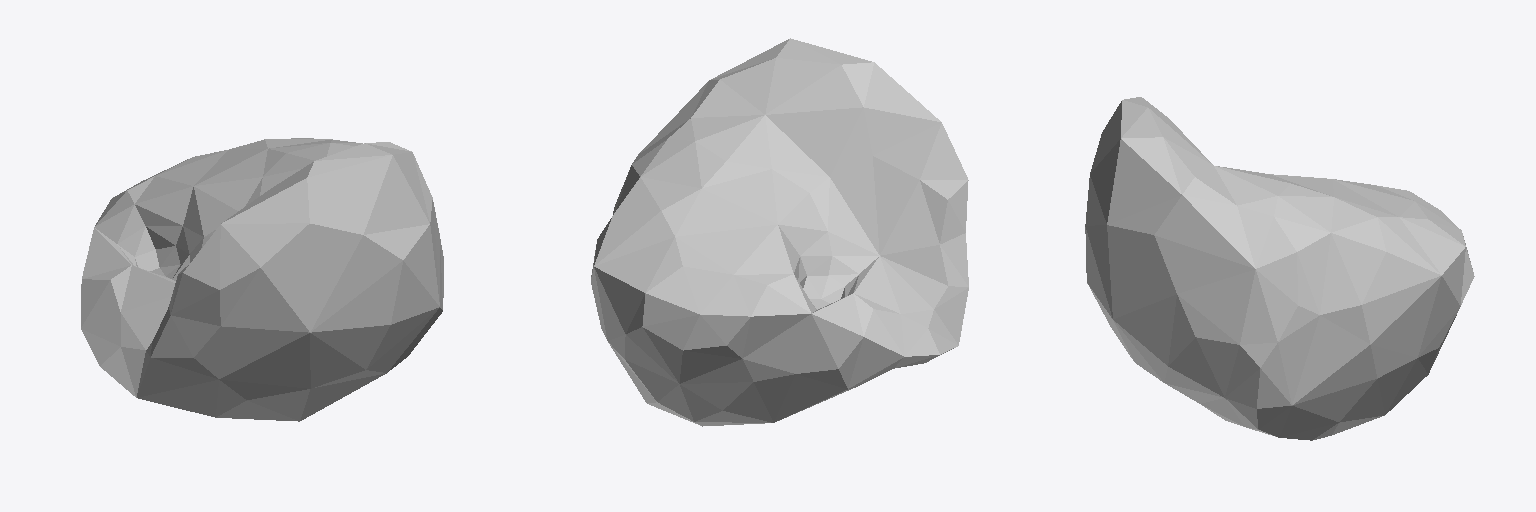
File: rock.obj
3 renders of one model, left to right at view 1: azimuth 30°, elevation 25°; view 2: azimuth 150°, elevation 25°; view 3: azimuth 270°, elevation 25°, orthographic.
Visible parts, largest first — view 1: Roock_Icosphere; view 2: Roock_Icosphere; view 3: Roock_Icosphere.
Boxes of the visible parts, box(x1,y1,x2,y2) form: Roock_Icosphere: box(81, 138, 443, 421); Roock_Icosphere: box(591, 38, 968, 426); Roock_Icosphere: box(1085, 97, 1474, 440).
Size of the model in its own units: 1.01 by 0.8547 by 1.04.